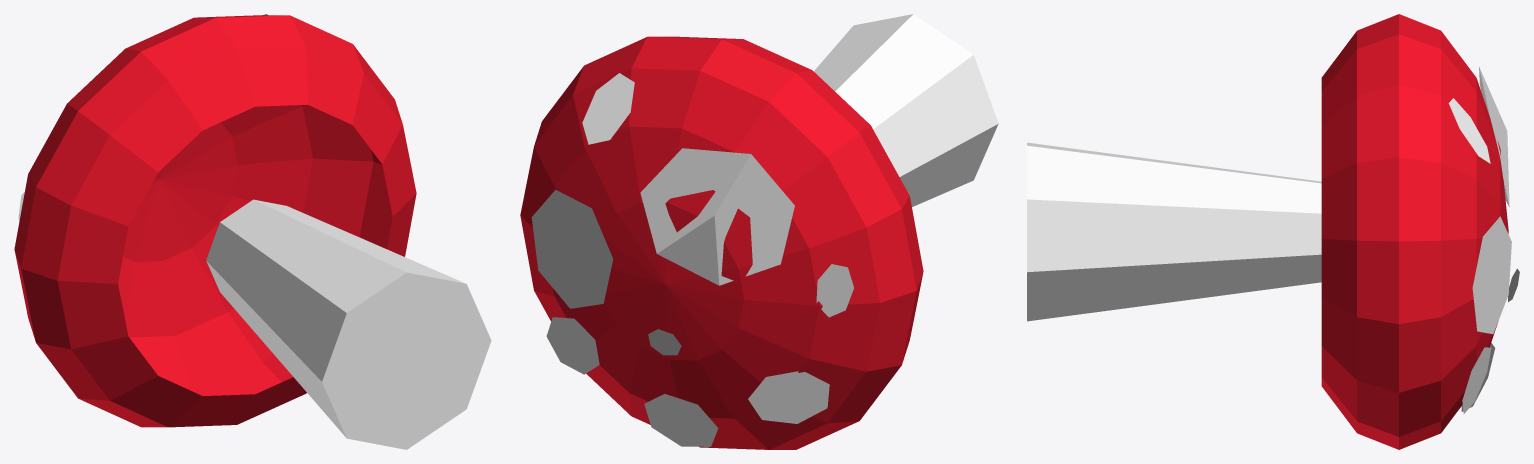
The model's file is shroom.fbx.
The picture shows the model from 3 angles, left to right: view 1: azimuth 30°, elevation 25°; view 2: azimuth 150°, elevation 25°; view 3: azimuth 270°, elevation 25°; orthographic projection. The views are drawn at different scales.
Parts seen in each view (by area): view 1: shroom, Cylinder; view 2: shroom, Cylinder; view 3: shroom, Cylinder.
Part boxes in pixels (x1=…): shroom: x1=14, y1=14, x2=416, y2=427; Cylinder: x1=206, y1=199, x2=491, y2=449; shroom: x1=520, y1=36, x2=923, y2=449; Cylinder: x1=814, y1=14, x2=998, y2=206; shroom: x1=1321, y1=14, x2=1519, y2=449; Cylinder: x1=1027, y1=142, x2=1321, y2=321.
Size of the model in its own units: 200 by 200 by 226.
